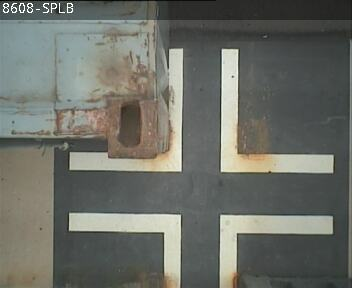groundmarker_1: (69, 50, 333, 173), (69, 211, 333, 288)
